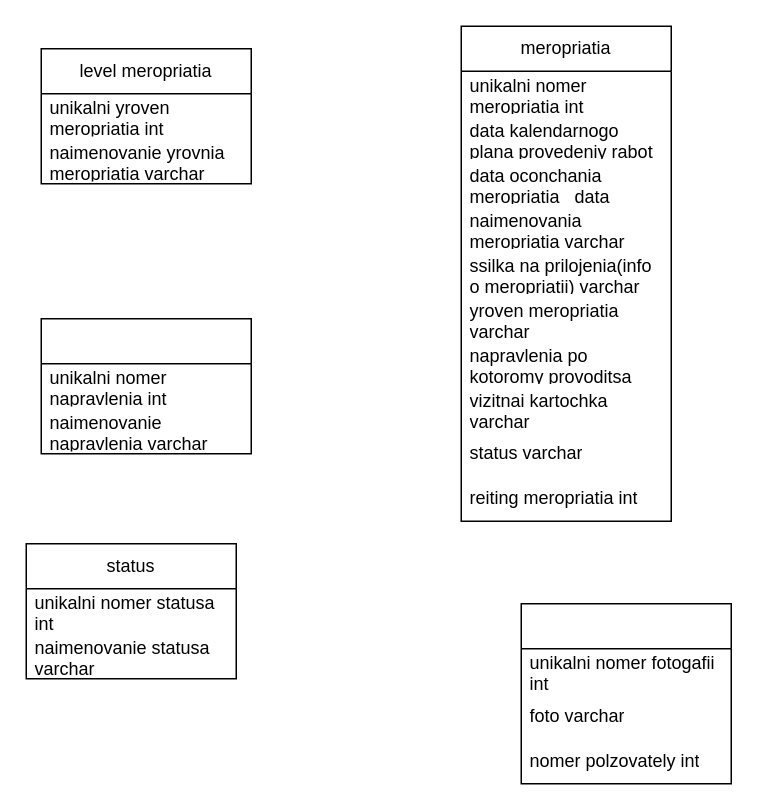
Image size: 758x810. Some labels were removed from this diagram. Each missing label, with the box of its shape:
galeria: (520, 602, 731, 784)
Napravlenie: (40, 317, 251, 454)
